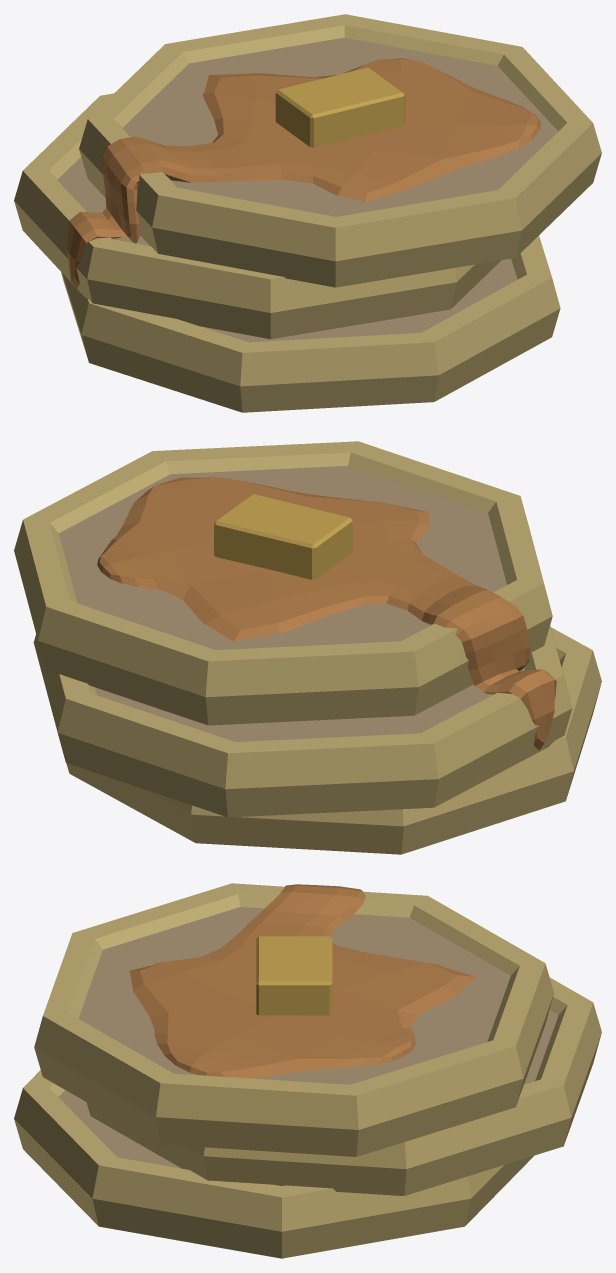
Rendered from Pancakes_Stack.glb.
3 renders of one model, top to bottom at view 1: azimuth 30°, elevation 25°; view 2: azimuth 150°, elevation 25°; view 3: azimuth 270°, elevation 25°, orthographic. The views are drawn at different scales.
Parts seen in each view (by area): view 1: Pancakes_Stack; view 2: Pancakes_Stack; view 3: Pancakes_Stack.
Part boxes in pixels (x1,y1,x2,y2): Pancakes_Stack: (14,14,601,412); Pancakes_Stack: (14,441,601,854); Pancakes_Stack: (14,883,601,1258).
Size of the model in its own units: 1.58 by 0.6375 by 1.62.
